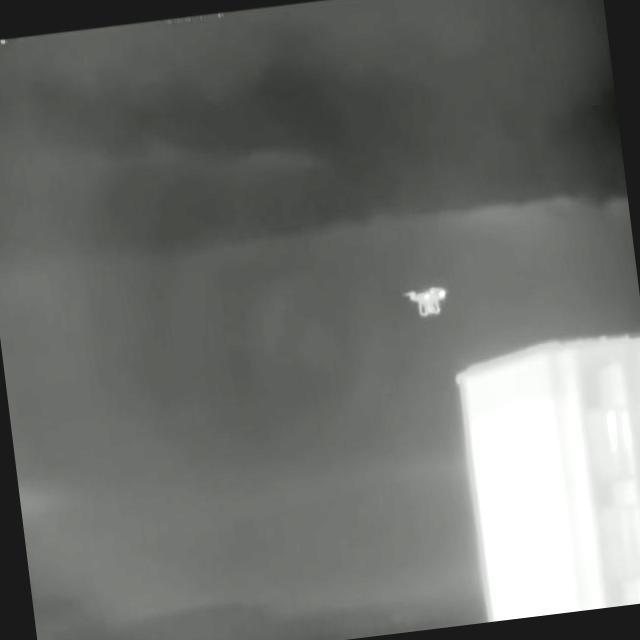DRONE: (398, 284, 456, 319)
